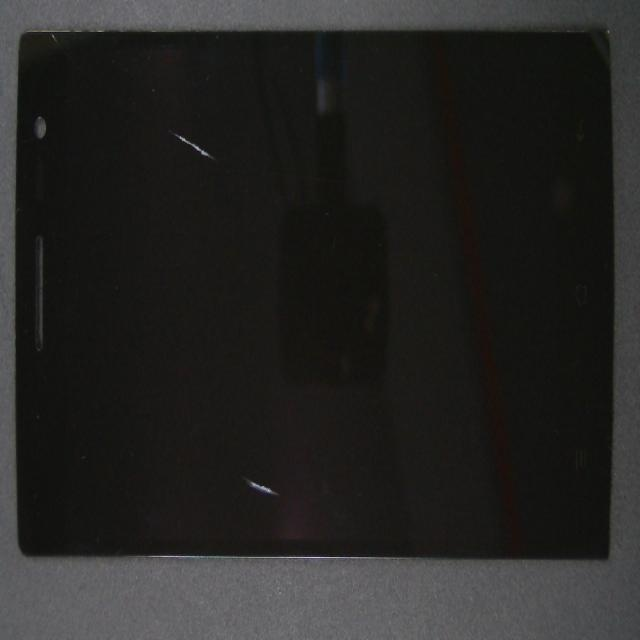scratch: (162, 271, 411, 640), (136, 101, 309, 207)
